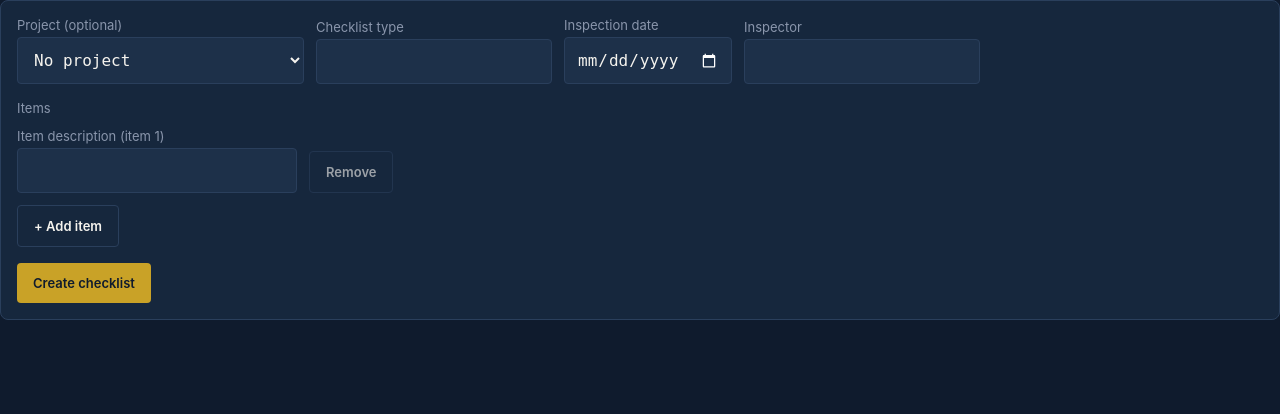
Test: CreateInspectionChecklistForm › adds a second item when "+ Add item" is clicked
Click the button "+ Add item" at (68, 226), box 17,205 -> 119,247
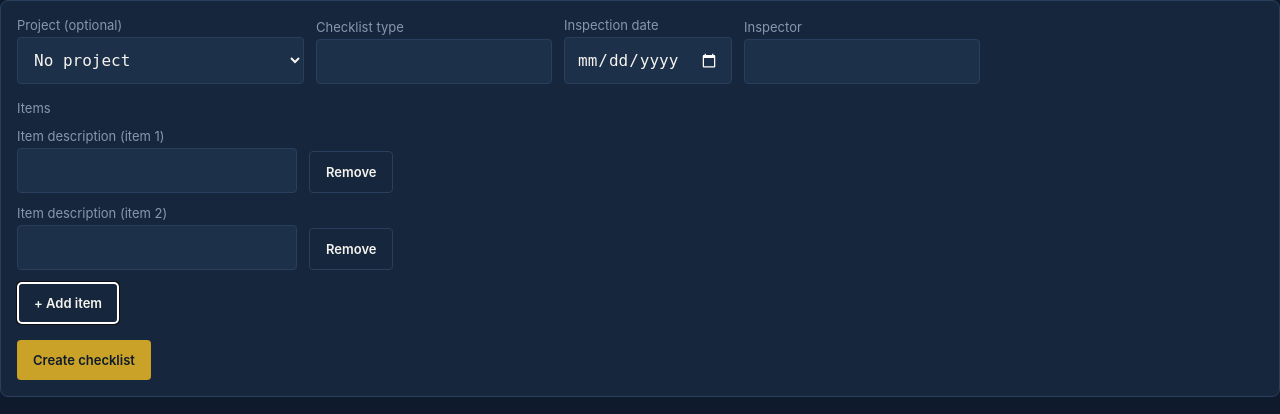
Check: the field labelled "Item description (item 2)" is shown, box 17,225 -> 297,270
Check: the number of buttons "Remove" is 2, box 309,151 -> 394,193; 309,228 -> 394,270
Check: the button "Remove" below "Item description (item 1)" is enabled, box 309,151 -> 394,193
